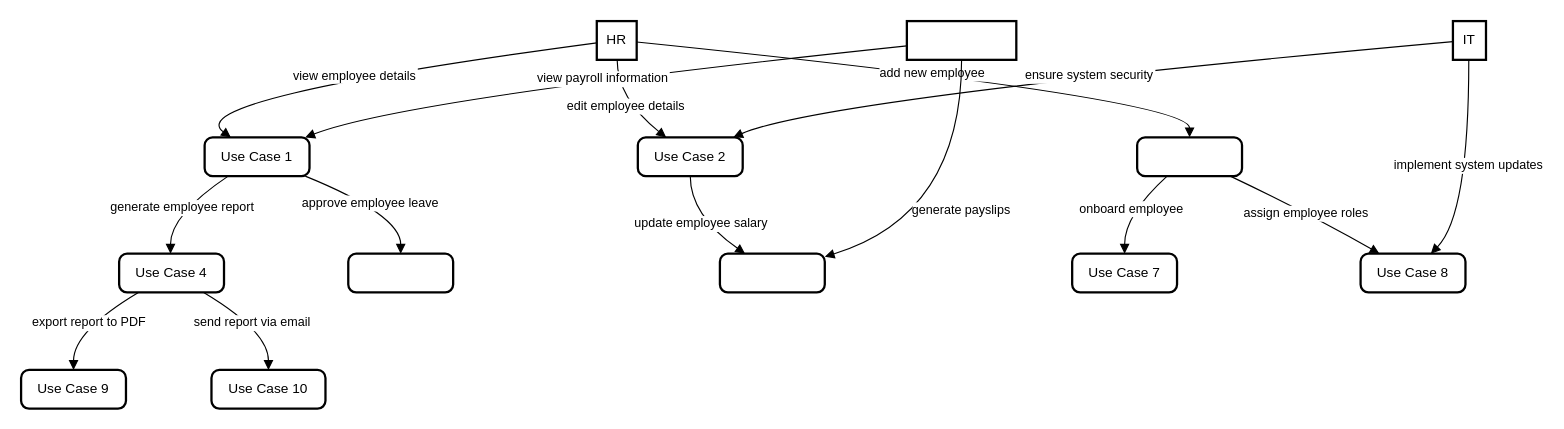
Image size: 1564x429. Some labels were removed from this diagram. Each missing label, with the centre of its shape:
Accountant: (961,39)
Use Case 3: (1189,156)
Use Case 5: (400,272)
Use Case 6: (771,272)
